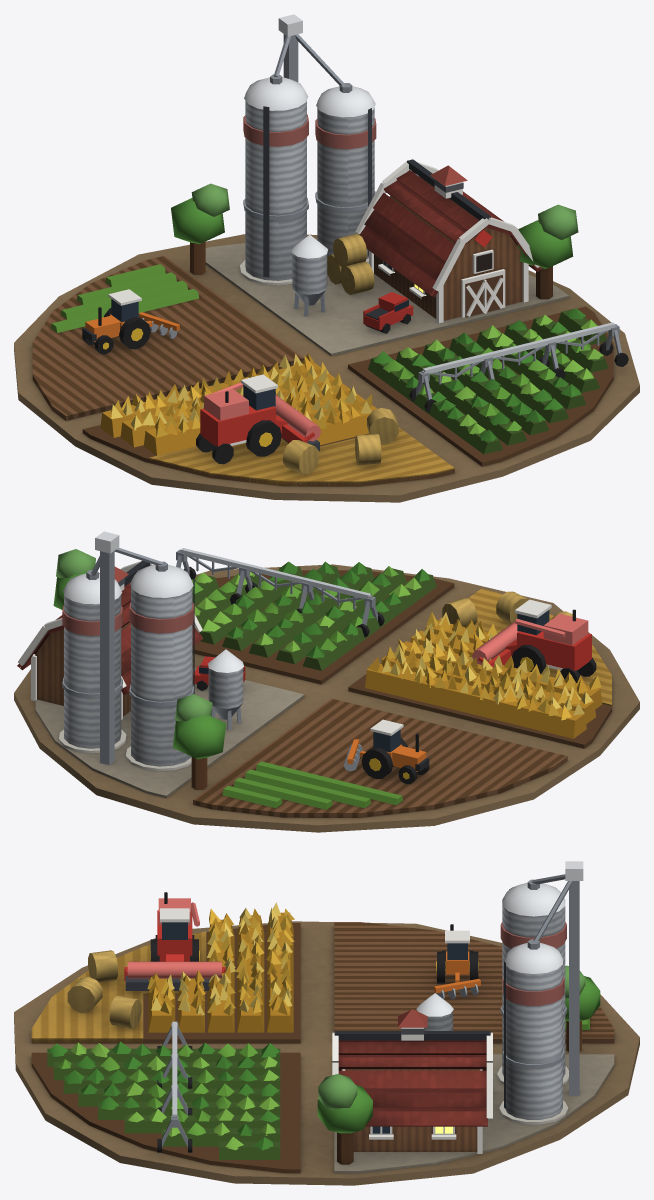
The model's file is farm_modern_red.glb.
3 renders of one model, top to bottom at view 1: azimuth 30°, elevation 25°; view 2: azimuth 150°, elevation 25°; view 3: azimuth 270°, elevation 25°, orthographic.
Visible parts, largest first — view 1: farm_modern_red; view 2: farm_modern_red; view 3: farm_modern_red.
Part boxes in pixels (bbox=[...]): farm_modern_red: bbox=[14, 14, 639, 502]; farm_modern_red: bbox=[14, 531, 639, 832]; farm_modern_red: bbox=[14, 861, 639, 1185].
Size of the model in its own units: 1.36 by 0.585 by 1.4.
2 materials, 1 textured.
